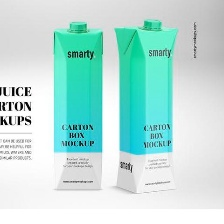carton: (111, 18, 186, 198), (50, 21, 105, 191)
